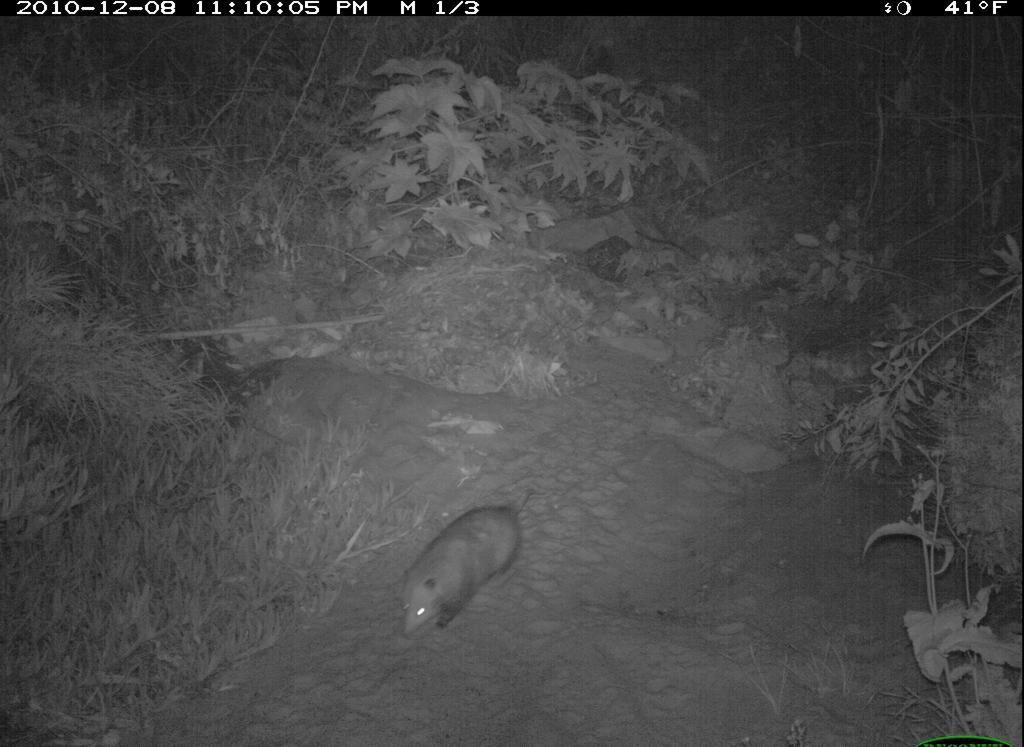opossum: (365, 490, 565, 655)
